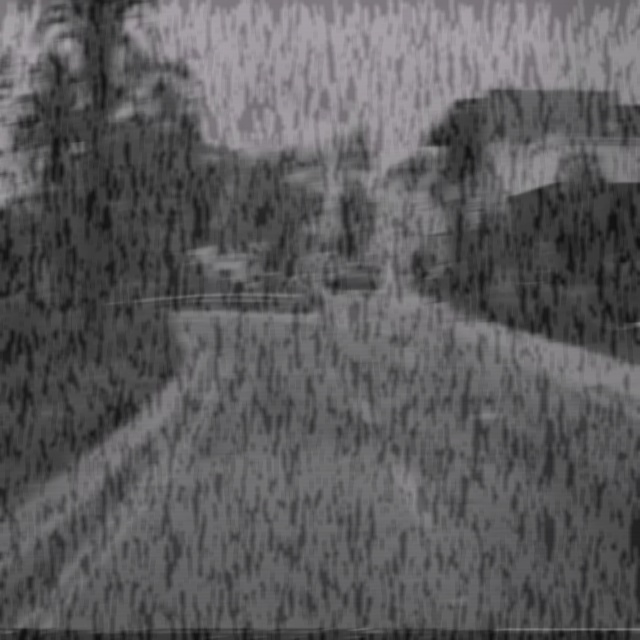curveLeft: (160, 110, 197, 186)
zoneAhead25: (468, 192, 483, 230)
